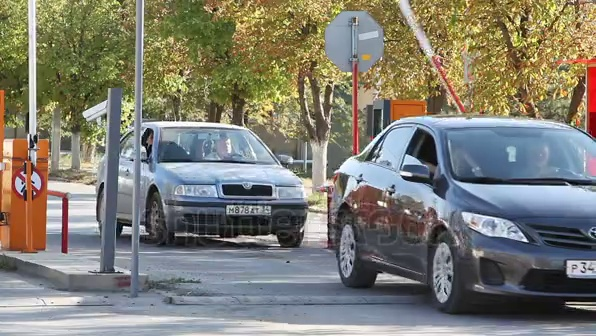licenseplate: (224, 204, 275, 217), (564, 259, 596, 273)
